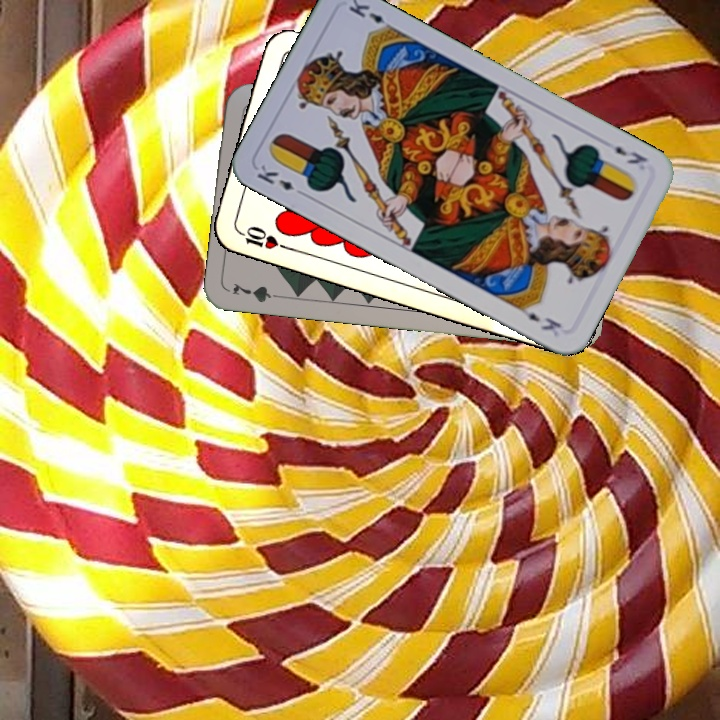EK: (252, 160, 309, 199), (610, 142, 650, 167)
G7: (228, 278, 287, 305)
H10: (233, 222, 291, 253)
